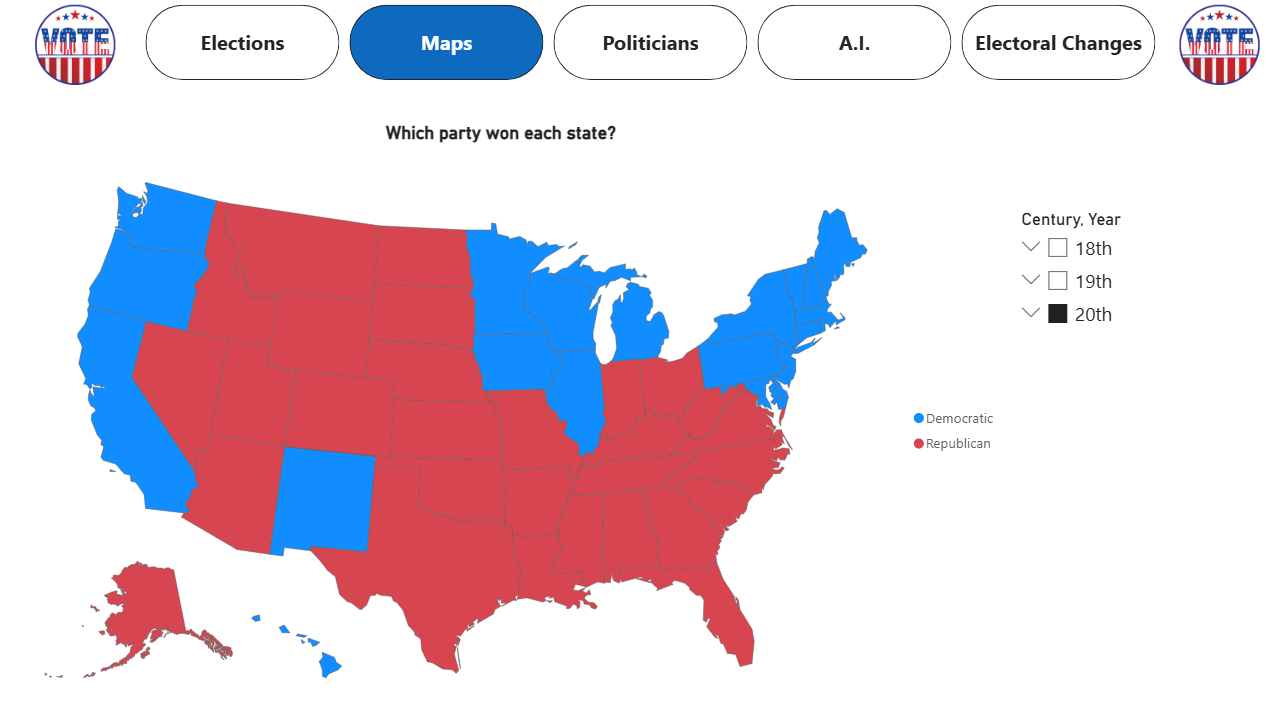

Layout of this report page (visuals, bound fields, positions):
{"tool":"powerbi","page":{"name":"Maps","canvas":[1280,720],"ordinal":1},"visuals":[{"type":"pageNavigator","box":[150,10,1008.6,75],"z":0},{"type":"image","box":[1158.6,10,121.4,80],"z":1000},{"type":"image","box":[20,10,121.4,80],"z":2000},{"type":"shapeMap","title":"Which party won each state?","fields":{"Value":["Election Results (Fact).Major Candidate"],"Category":["State (Dim).LongName"],"Series":["Political Party (Dim).PartyName"]},"box":[0,127.2,1009.1,593.4],"z":3000},{"type":"slicer","fields":{"Values":["Date (Dim).Century","Date (Dim).Year"]},"box":[1008.7,209.4,270.4,261.1],"z":4000}]}

Visuals, with their boxes in screenshot pixels (x1, y1, x2, y2), scaled from the page's 1280x720 canvas onto the 1276x714 screenshot:
pageNavigator: <region>150, 10, 1155, 84</region>
image: <region>1155, 10, 1275, 89</region>
image: <region>20, 10, 141, 89</region>
"Which party won each state?" shapeMap: <region>0, 126, 1006, 713</region>
slicer - Date (Dim).Century x Date (Dim).Year: <region>1006, 208, 1275, 467</region>
